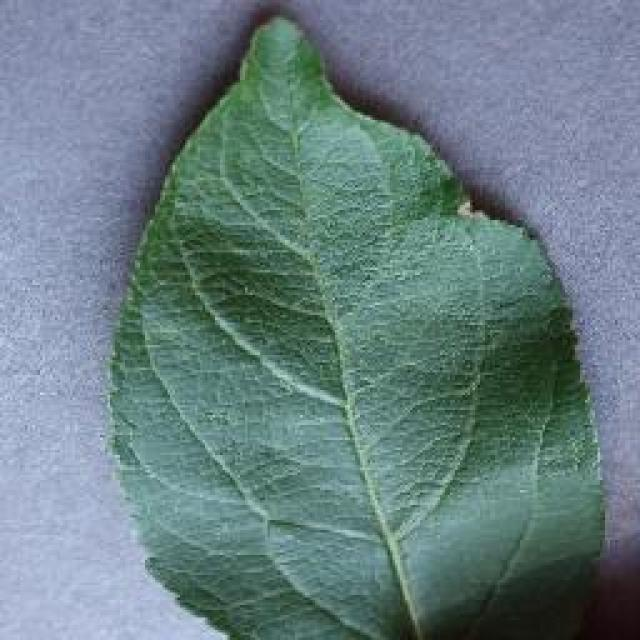apple healthy: (102, 10, 610, 638)
